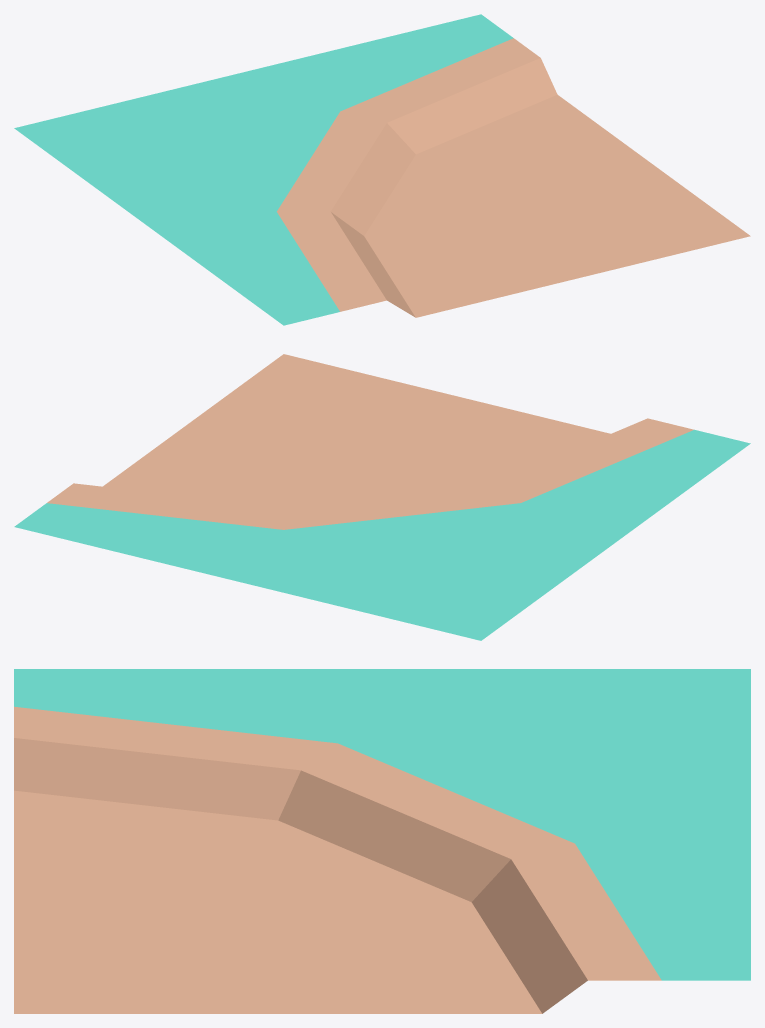
Rendered from ground_pathCorner.glb.
3 renders of one model, top to bottom at view 1: azimuth 30°, elevation 25°; view 2: azimuth 150°, elevation 25°; view 3: azimuth 270°, elevation 25°, orthographic. The views are drawn at different scales.
Visible parts, largest first — view 1: ground_pathCorner; view 2: ground_pathCorner; view 3: ground_pathCorner.
Boxes of the visible parts, box(x1,y1,x2,y2) form: ground_pathCorner: box(14, 14, 750, 325); ground_pathCorner: box(14, 354, 750, 640); ground_pathCorner: box(14, 669, 750, 1013).
Size of the model in its own units: 1 by 0.0501 by 1.
